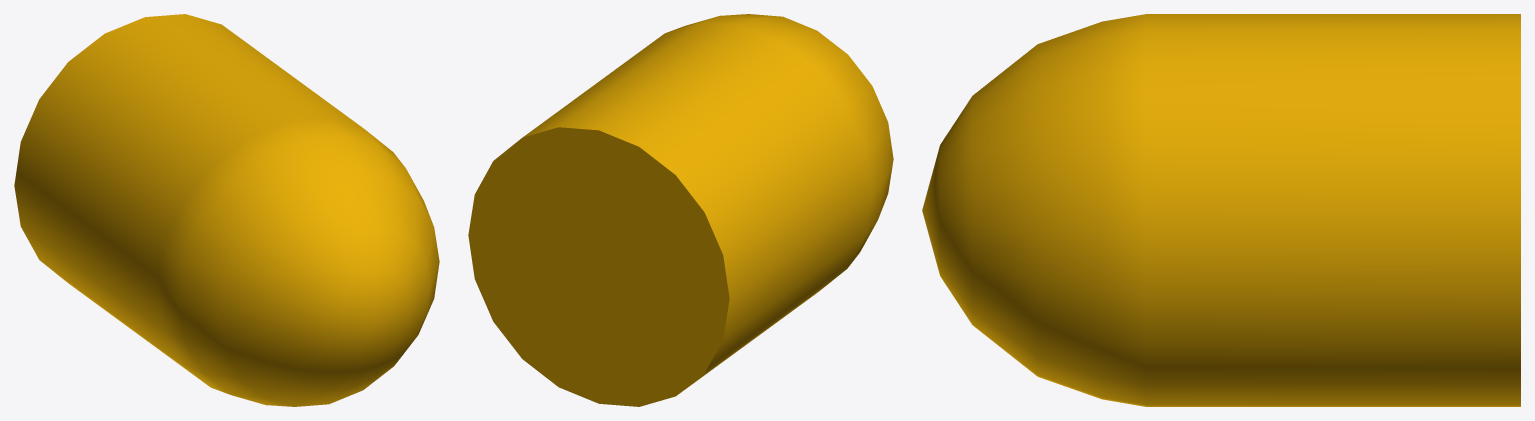
File: projectile_bullet.fbx
3 renders of one model, left to right at view 1: azimuth 30°, elevation 25°; view 2: azimuth 150°, elevation 25°; view 3: azimuth 270°, elevation 25°, orthographic. The views are drawn at different scales.
Parts seen in each view (by area): view 1: projectile_bullet; view 2: projectile_bullet; view 3: projectile_bullet.
Boxes of the visible parts, x1=… form: projectile_bullet: x1=14, y1=14, x2=439, y2=406; projectile_bullet: x1=468, y1=14, x2=893, y2=406; projectile_bullet: x1=922, y1=14, x2=1520, y2=406.
Bounding box in the file's own units: 2 × 2 × 3.02.
